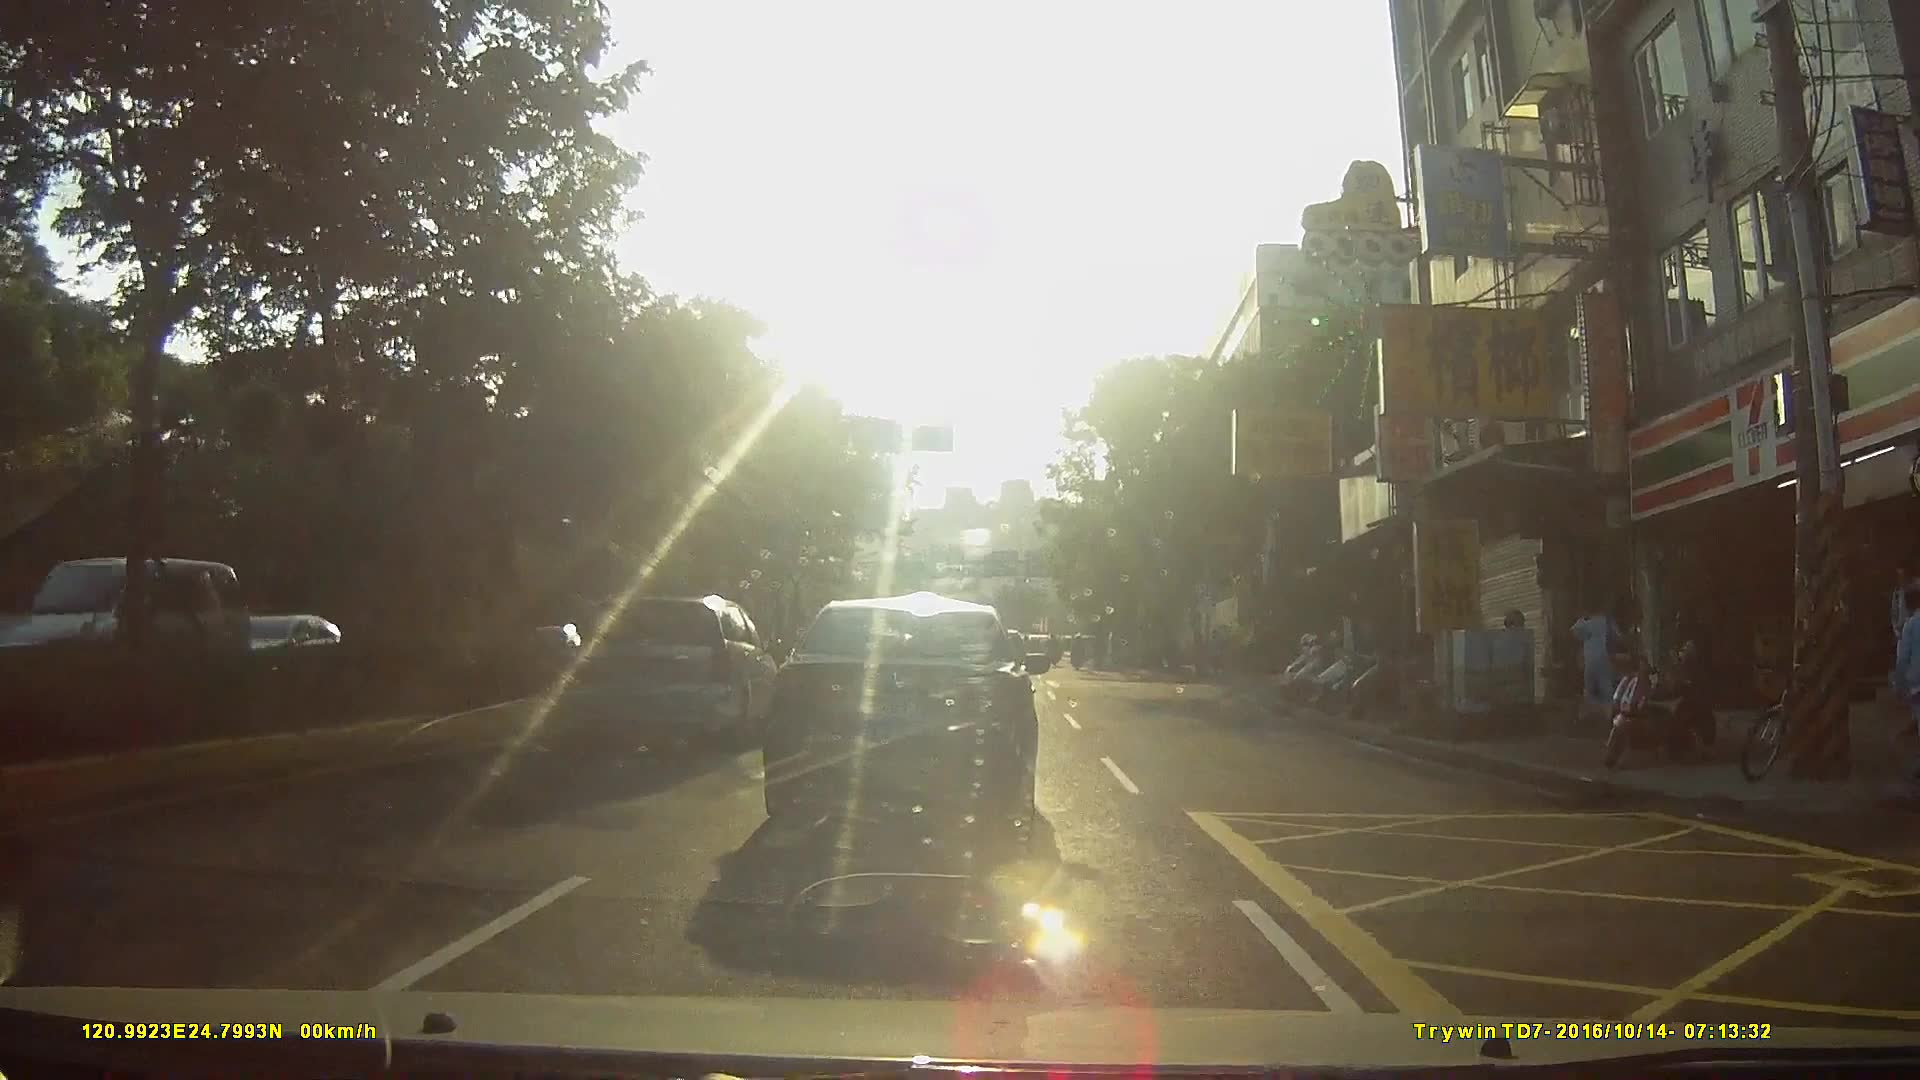pedestrian: (1565, 597, 1624, 723), (1668, 617, 1718, 764), (1889, 595, 1920, 780)
vehicle: (760, 599, 1051, 842), (1, 560, 268, 736), (581, 592, 786, 743)
